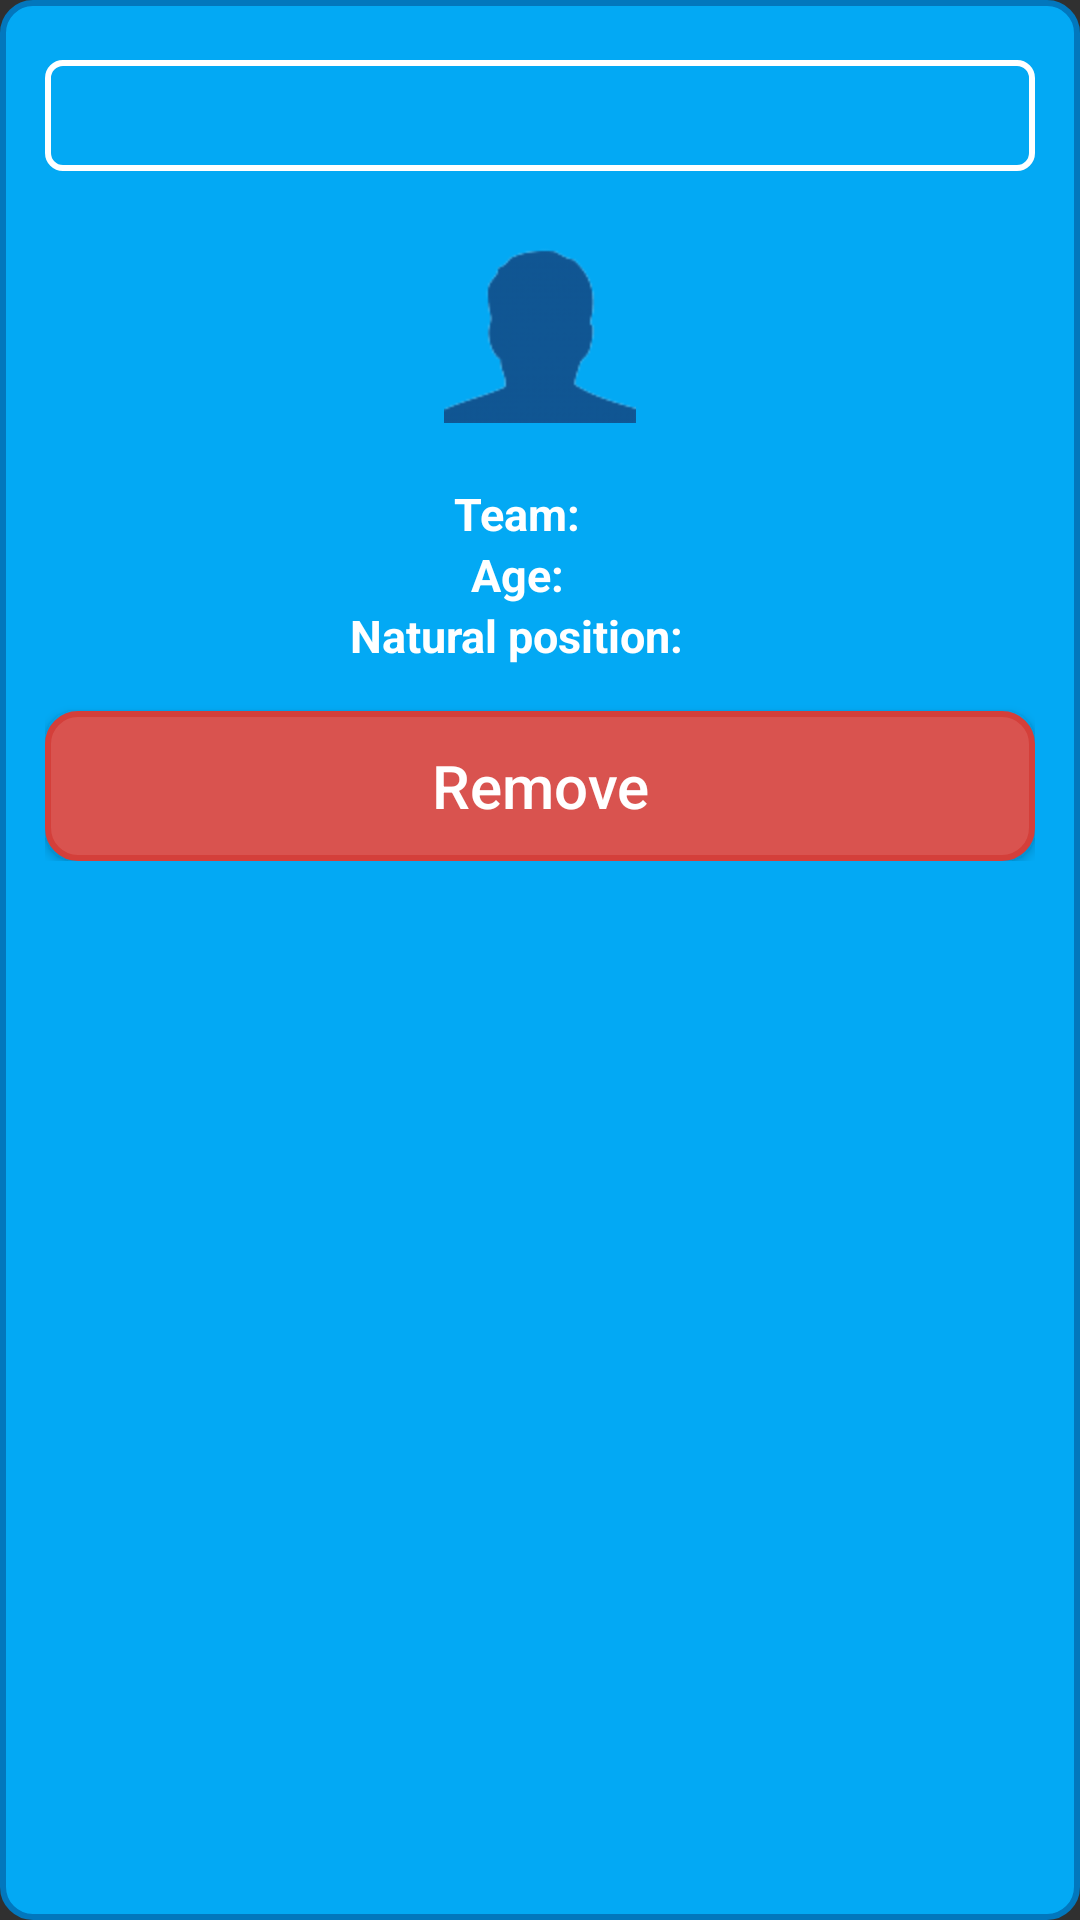

Where to tap for icons on this 1080×1920 app screen, as point (x, y):
Player Image: point (540, 337)
